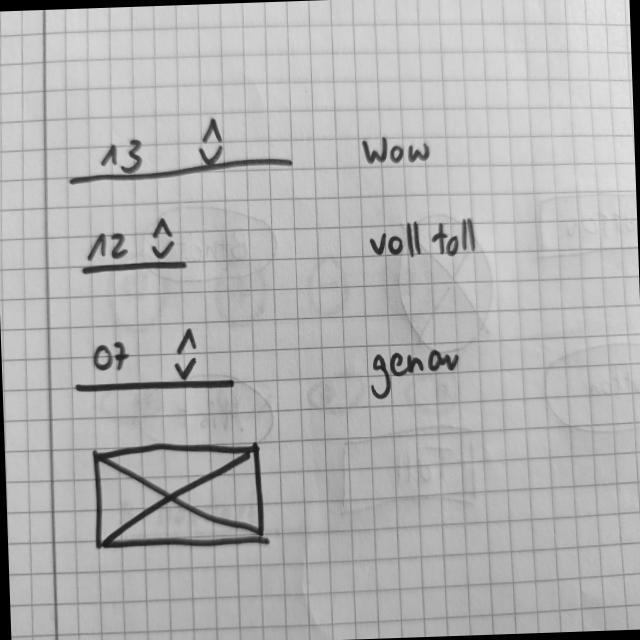image: (88, 436, 271, 553)
label: (363, 214, 482, 264), (368, 345, 464, 404), (358, 128, 435, 170)
number-input: (66, 110, 297, 188), (70, 326, 238, 398), (79, 214, 192, 280)
